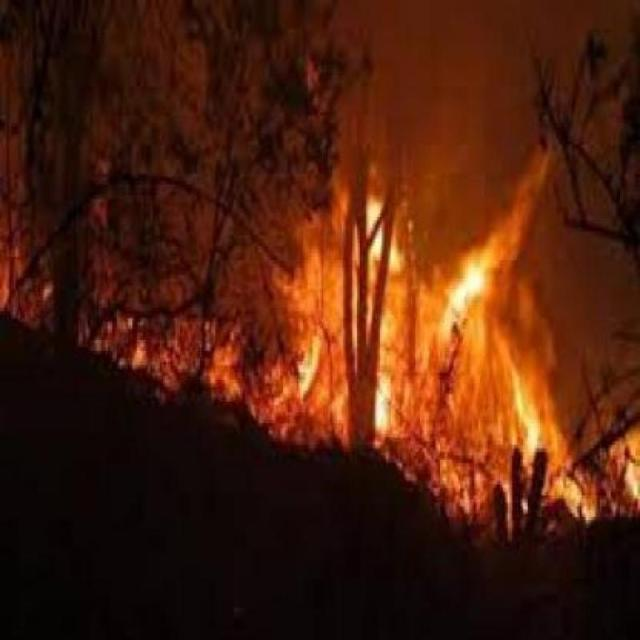Fire: (289, 178, 597, 486), (5, 164, 224, 390), (226, 323, 288, 431), (597, 411, 640, 539)
